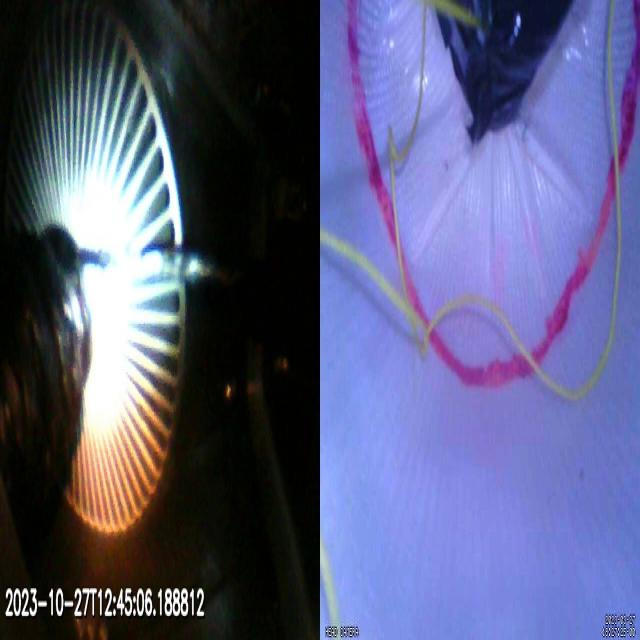red-circle: (344, 0, 640, 392)
